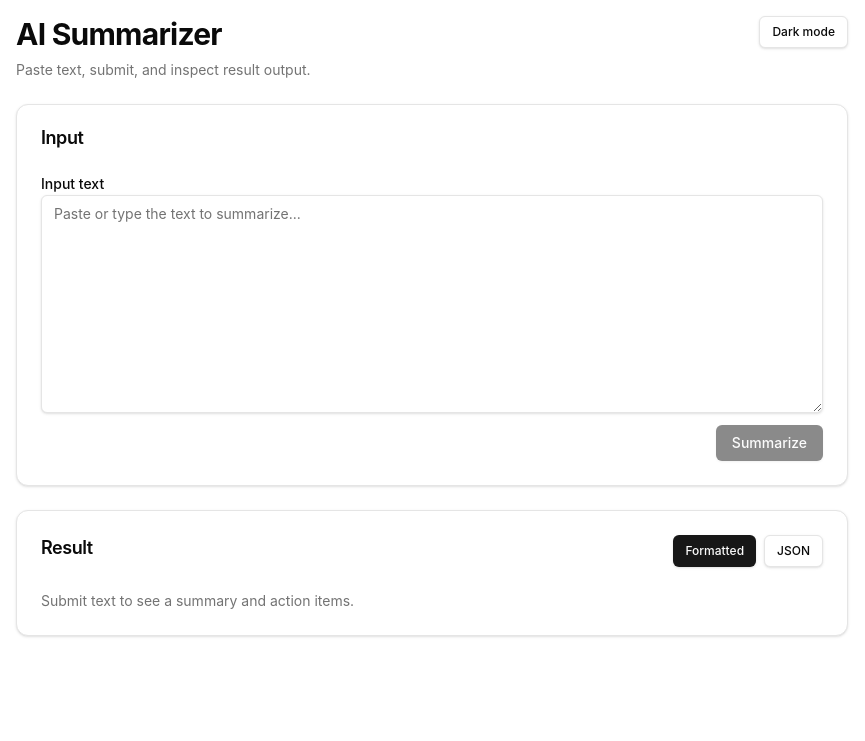
Scenario: App › submits text and renders formatted response
In the text box labelled "Input text": (432, 304) [41,195,823,413], type "This is enough text to submit."
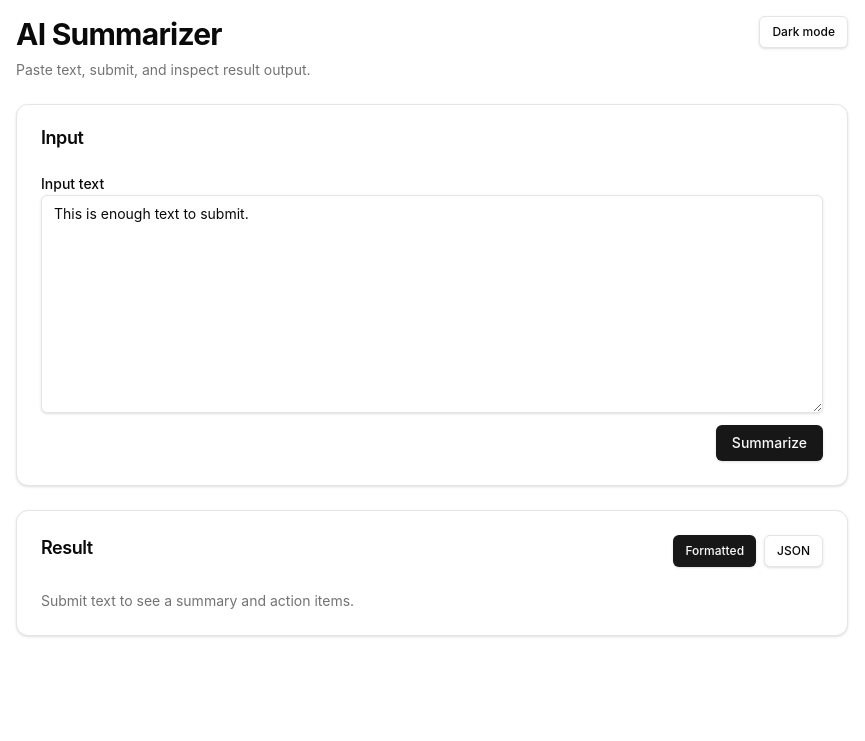
Click the button "Summarize": (769, 443) [716,425,823,461]
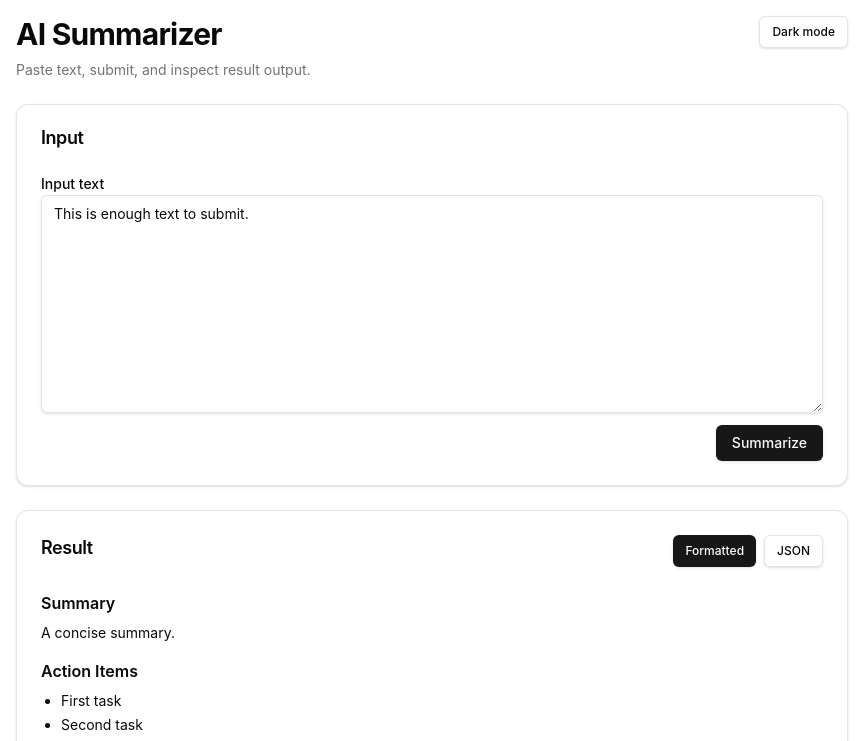
Check: the text "A concise summary." is shown, box [41,624,175,641]
Check: the list item "First task" is shown, box [61,692,121,709]
